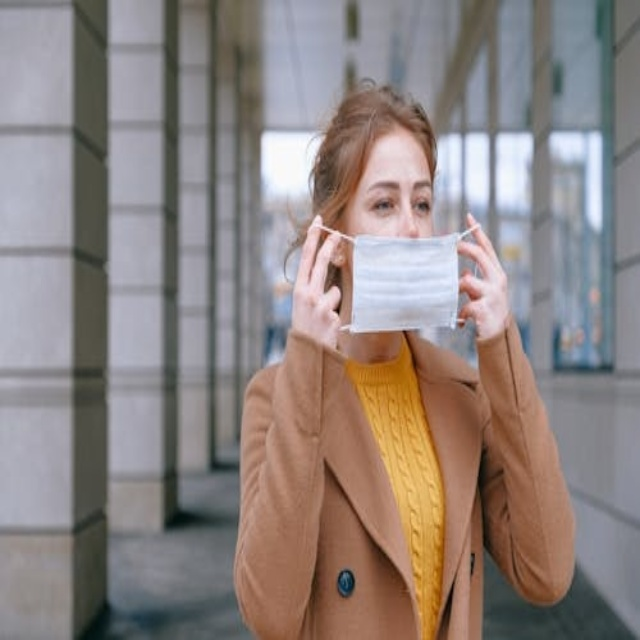Mascara: (340, 229, 464, 336)
Sin_gafas: (355, 173, 436, 217)
Sin_guantes: (288, 209, 344, 354), (456, 206, 509, 346)
